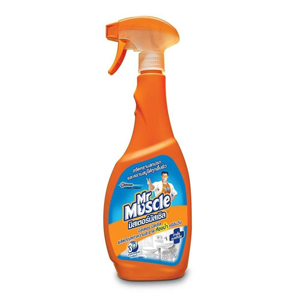Cleaning_solution: (99, 13, 196, 287)
